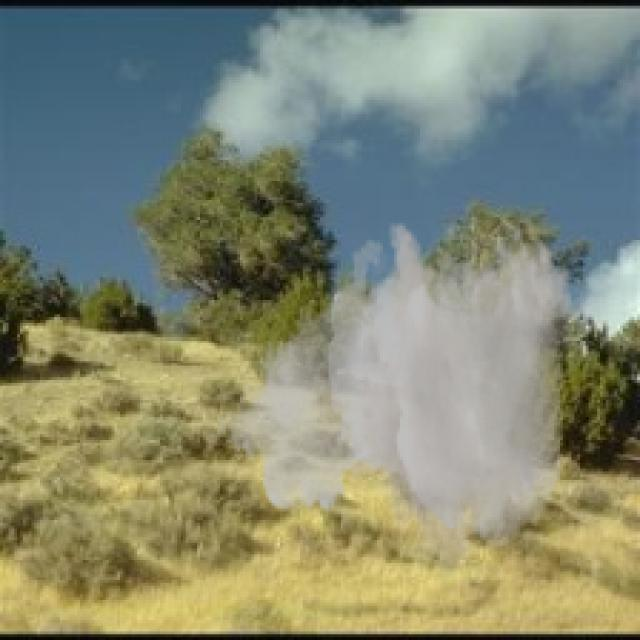smoke: (217, 220, 574, 591)
